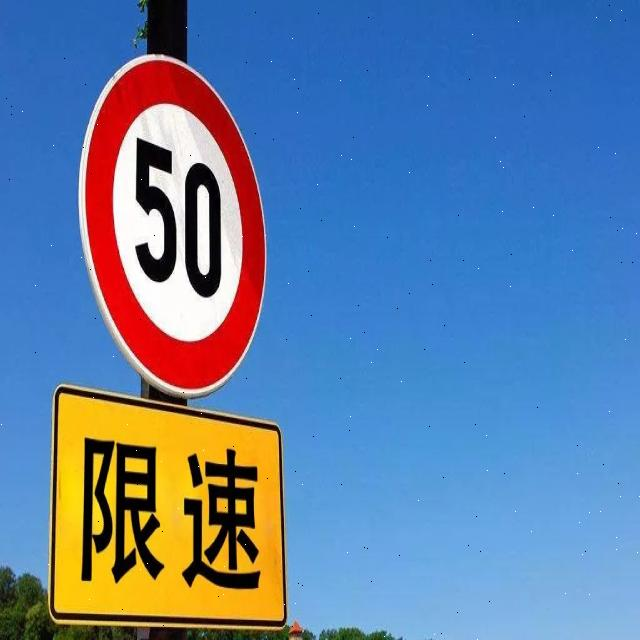speed limit 50: (78, 52, 267, 397)
